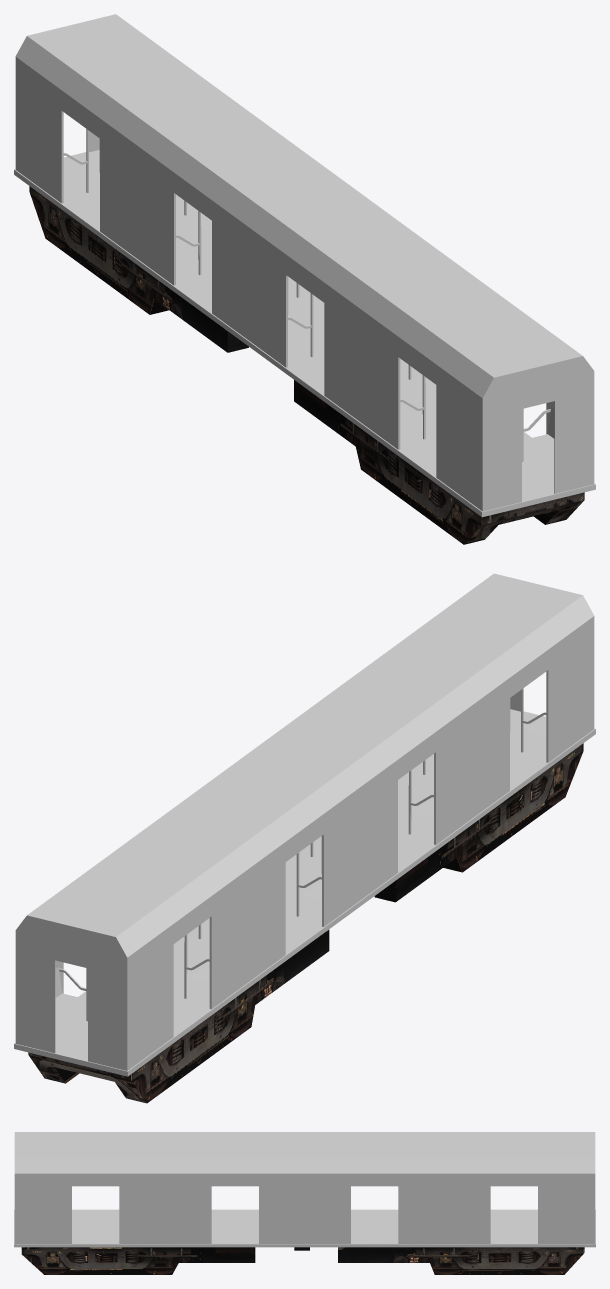
Rendered from rusted_metro.glb.
3 views of the same model, one above another, from view 1: azimuth 30°, elevation 25°; view 2: azimuth 150°, elevation 25°; view 3: azimuth 270°, elevation 25° (orthographic). The views are drawn at different scales.
Parts seen in each view (by area): view 1: MainMetro; view 2: MainMetro; view 3: MainMetro.
Part boxes in pixels (<box>): MainMetro: <box>14,14,595,544</box>; MainMetro: <box>14,573,595,1103</box>; MainMetro: <box>14,1132,595,1274</box>.
Bounding box in the file's own units: 3.06 × 4.7 × 21.77.
Materials: 3 (1 with a texture image).
